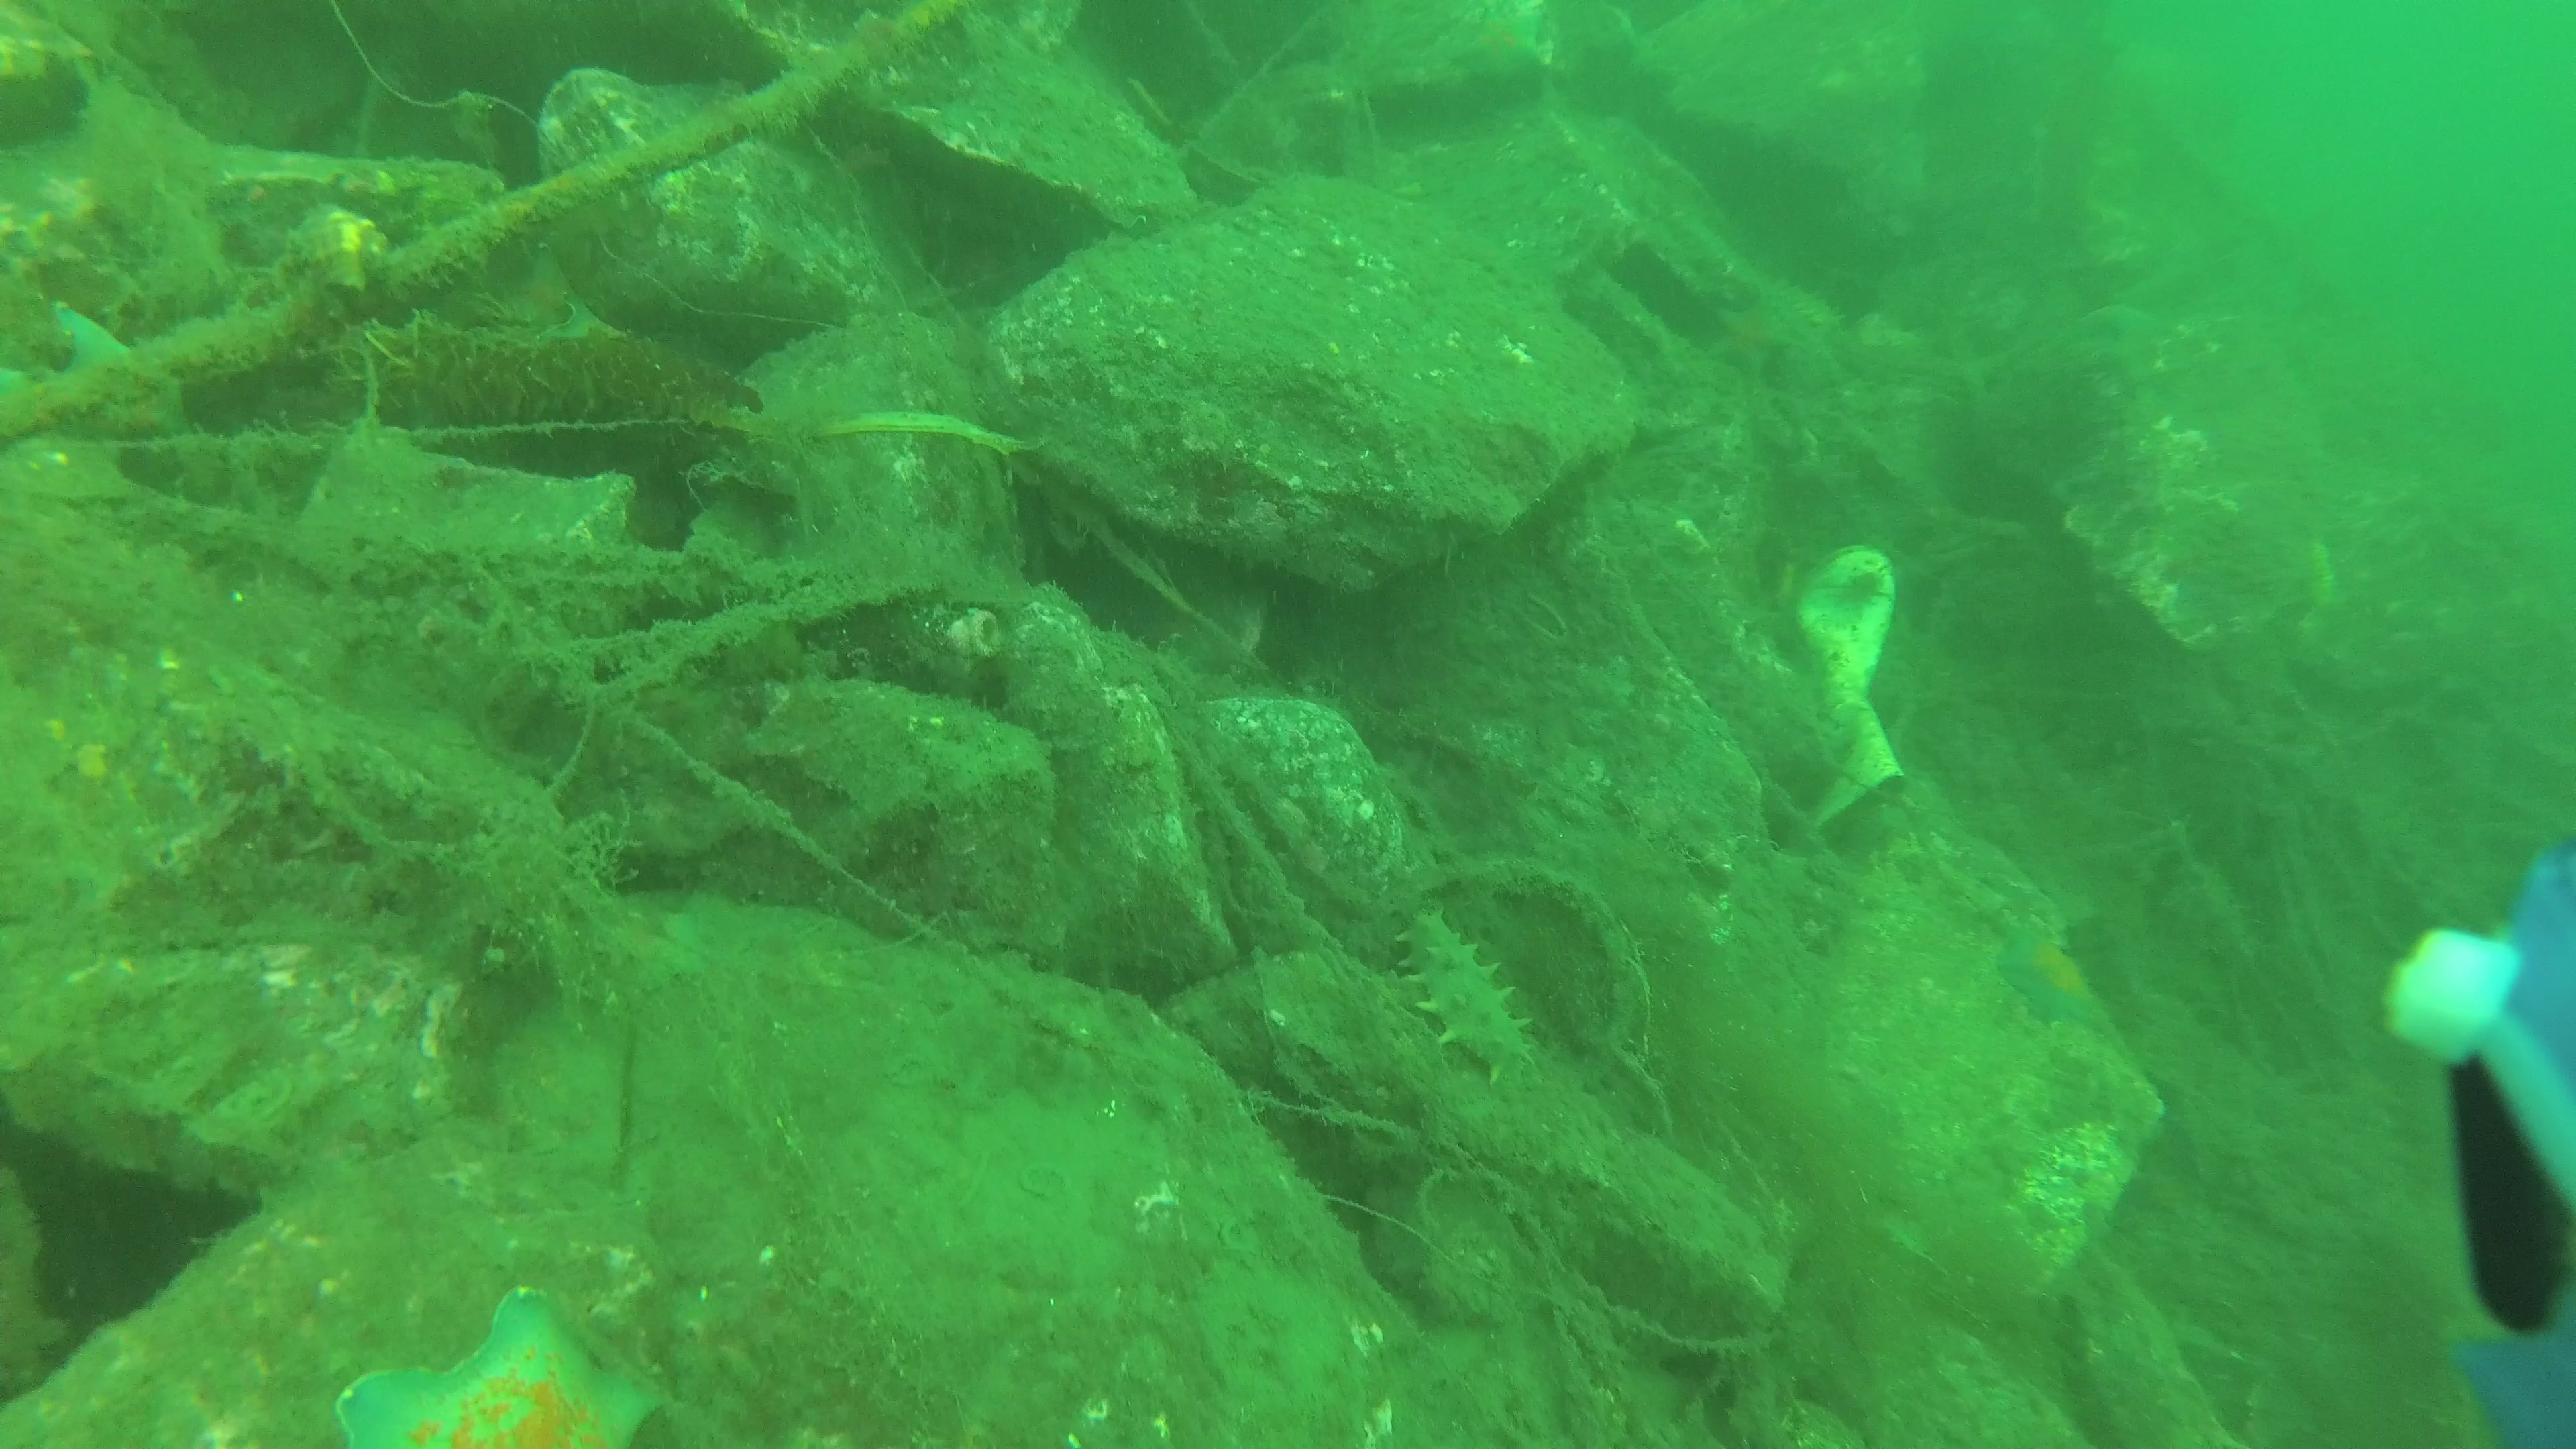holothurian: (1385, 899, 1545, 1090)
starfish: (333, 1292, 671, 1449), (1987, 899, 2127, 1054)
